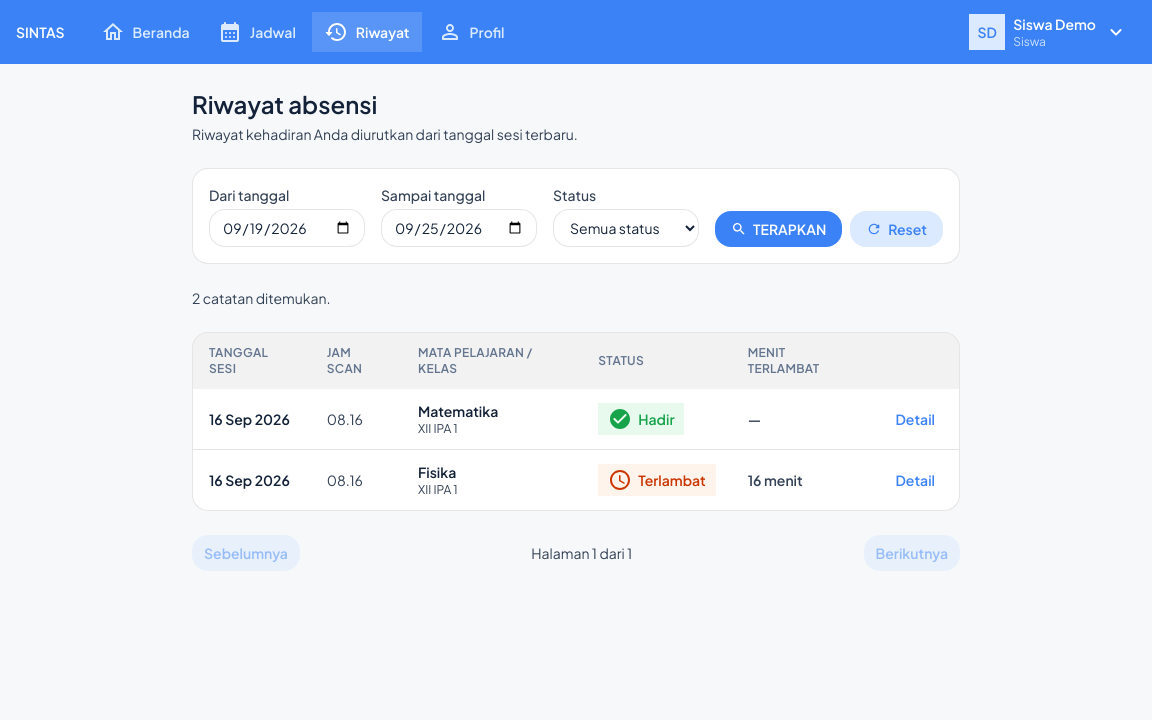
Test case: halaman riwayat siswa › mengirim rentang default dan status saat filter diterapkan
Expected: the text "2 catatan ditemukan." is shown, [192, 289, 330, 307]
Select "Terlambat" in the dropdown labelled "Status": (626, 228) [553, 209, 699, 247]
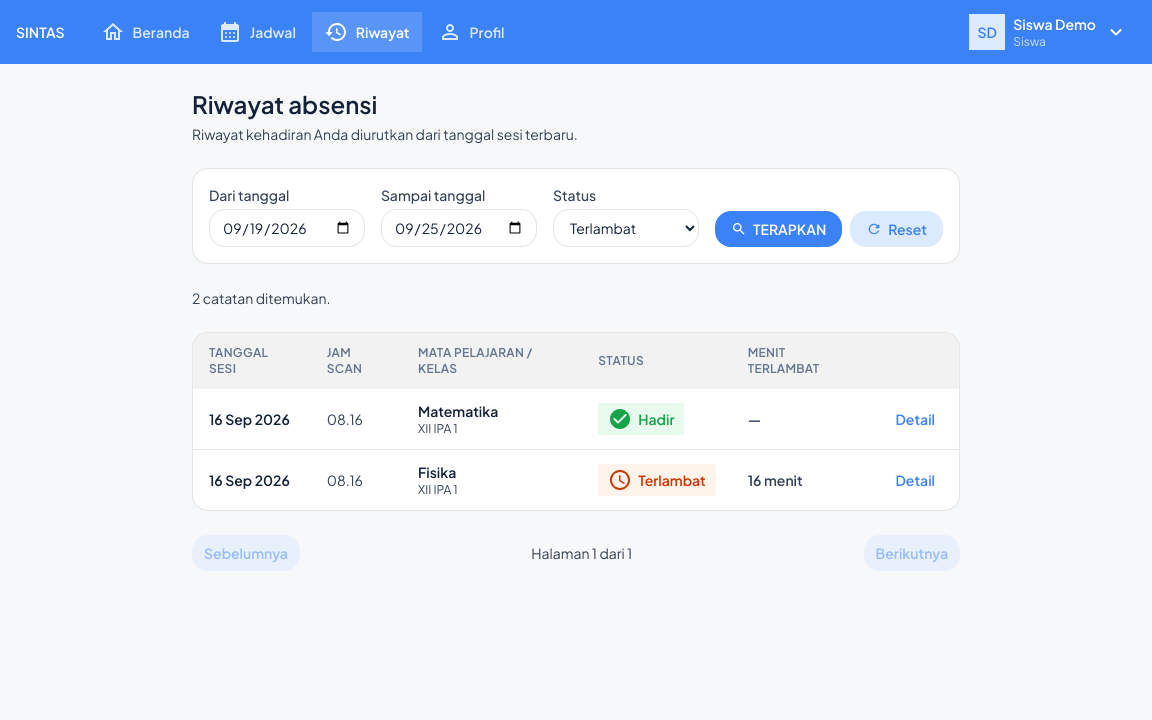
Click the button "Terapkan": (779, 229) [715, 211, 842, 247]
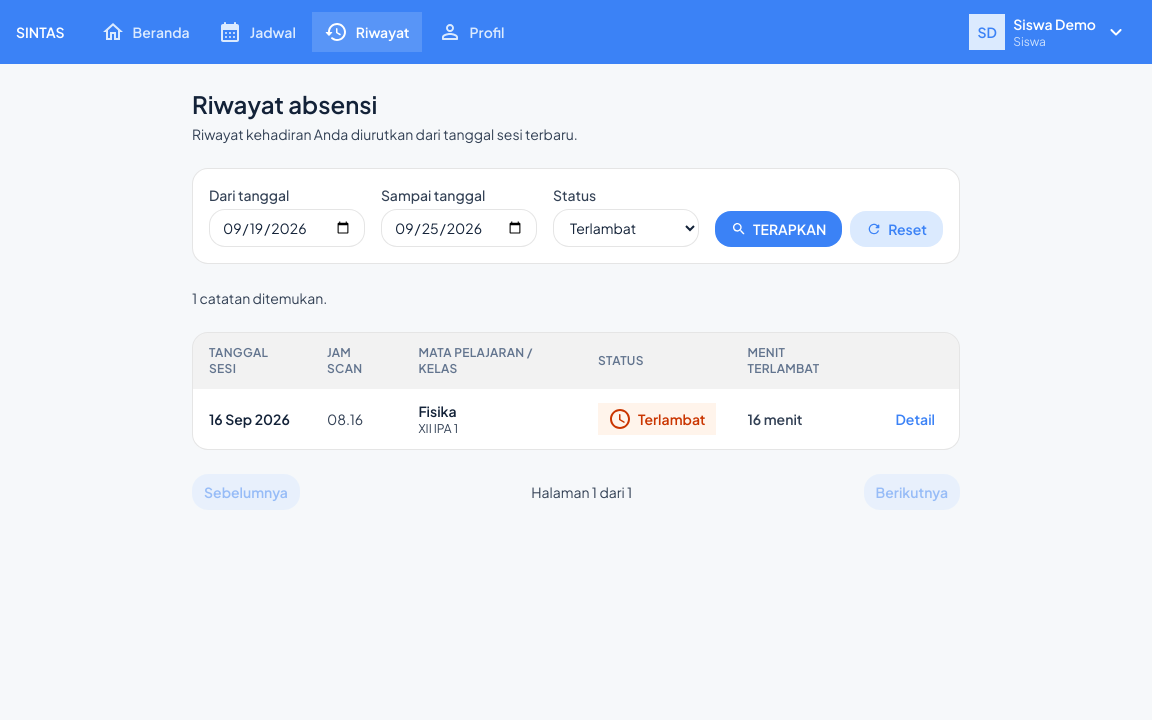
Expected: the text "Fisika" is shown, [418, 402, 457, 420]
Result: the text "1 catatan ditemukan." is shown at [192, 289, 327, 307]
Result: the text "Matematika" is gone
